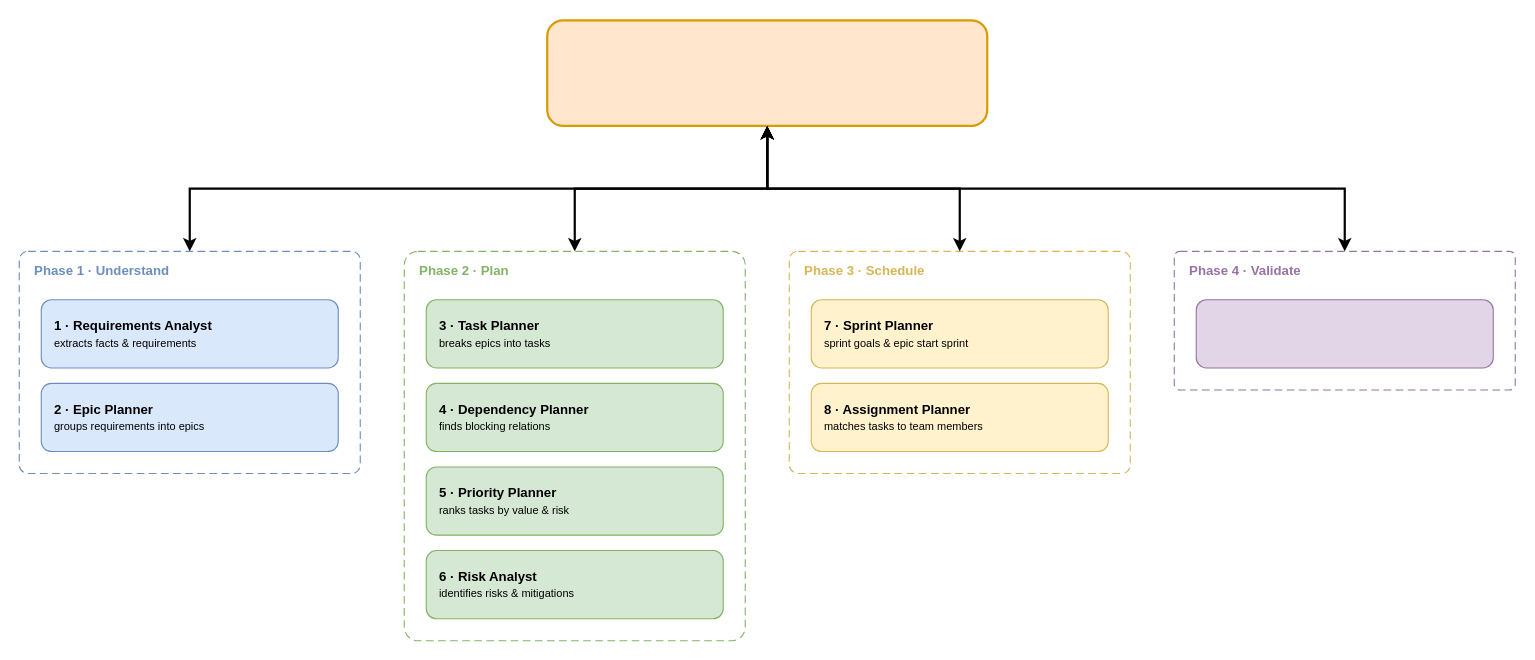
The diagram is 1535 pixels wide and 660 high, and some of its shapes have lost their labels. The shapes that lost their labels are listed below. From the top down, each one's centre as x and y in pixels, then its label:
the point at 767,73: Orchestrator decides next action · runs agent · validates & merges · checkpoints
the point at 1344,333: 9 · Project Validator semantic review (advisory)
